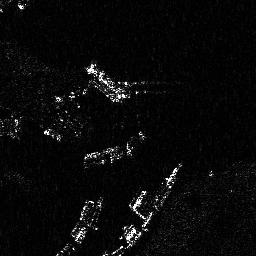ship: (85, 63, 130, 99)
